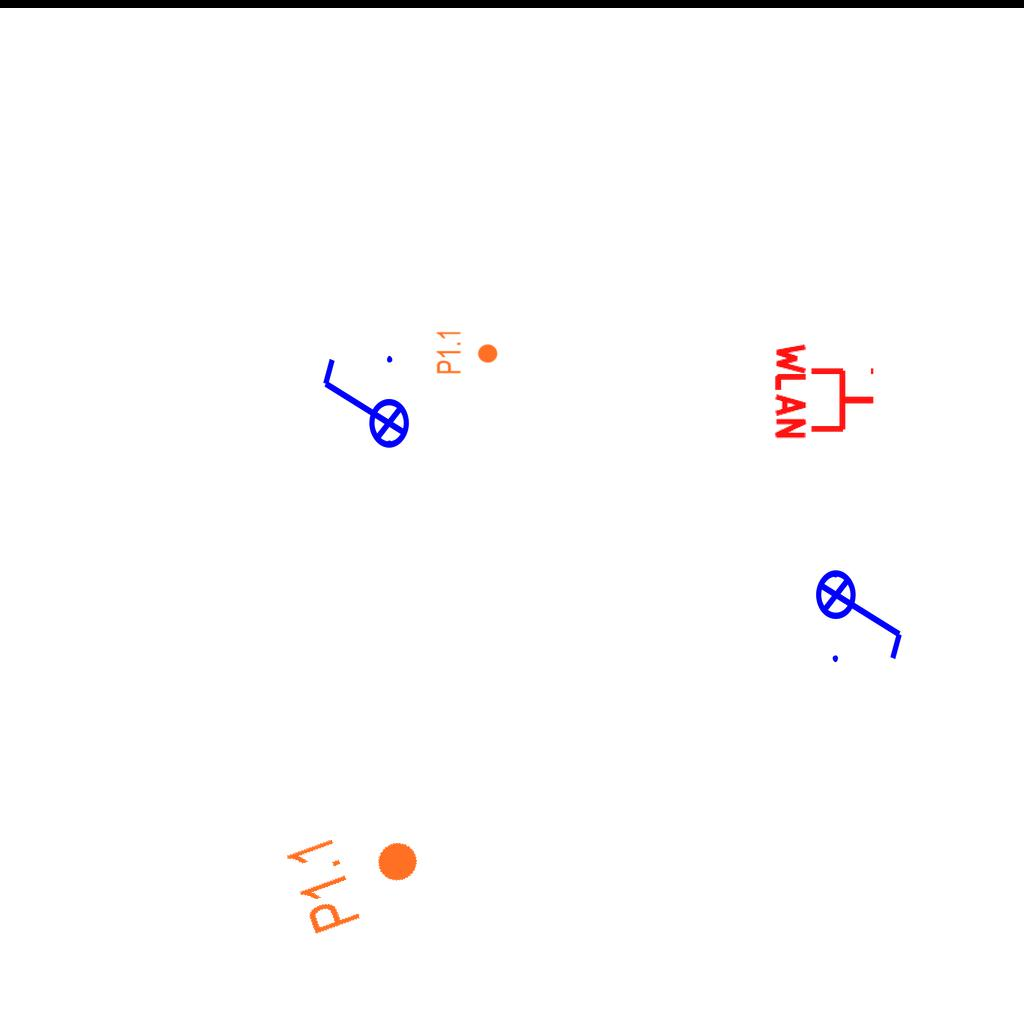Ausschalter_beleuchtet: (814, 556, 910, 668), (315, 350, 411, 462)
Downlight_LED_Einbauleuchten_Flur: (281, 807, 434, 939), (435, 329, 499, 375)
WLAN: (773, 339, 878, 443)
